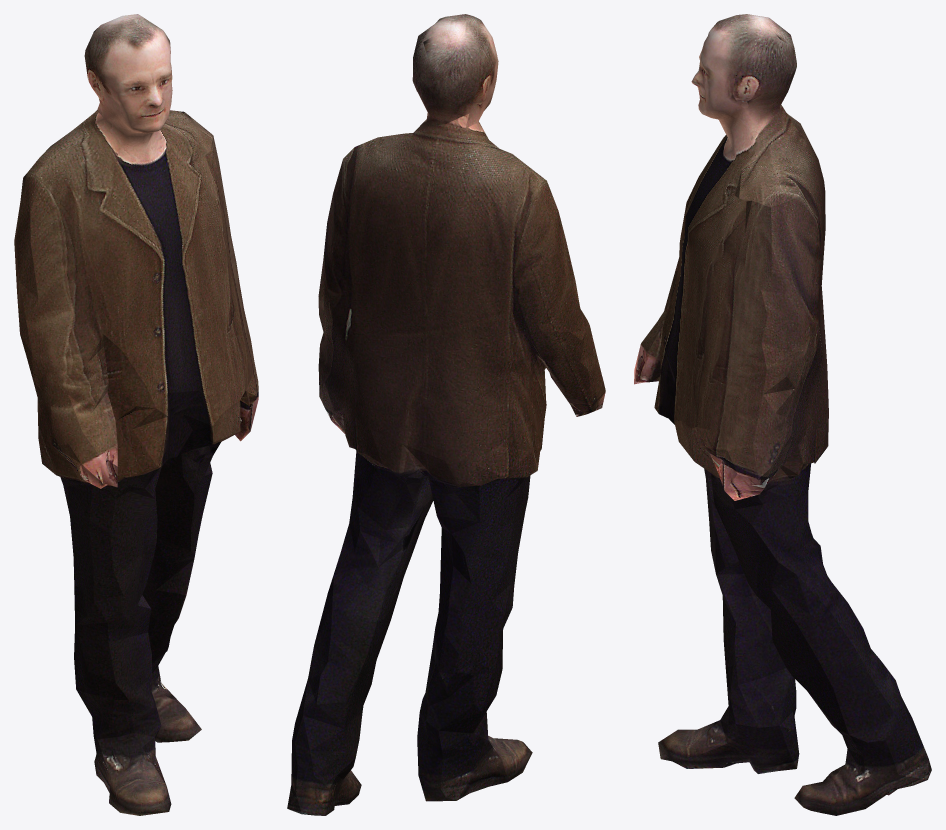
Rendered from Person_21.obj.
The picture shows the model from 3 angles, left to right: view 1: azimuth 30°, elevation 25°; view 2: azimuth 150°, elevation 25°; view 3: azimuth 270°, elevation 25°; orthographic projection. The views are drawn at different scales.
Visible parts, largest first — view 1: Person_21; view 2: Person_21; view 3: Person_21.
Boxes of the visible parts, bbox=[...] form: Person_21: bbox=[14, 14, 258, 815]; Person_21: bbox=[287, 14, 605, 815]; Person_21: bbox=[634, 14, 931, 815].
Size of the model in its own units: 0.5799 by 1.75 by 0.6313.
Materials: 1 (1 with a texture image).
